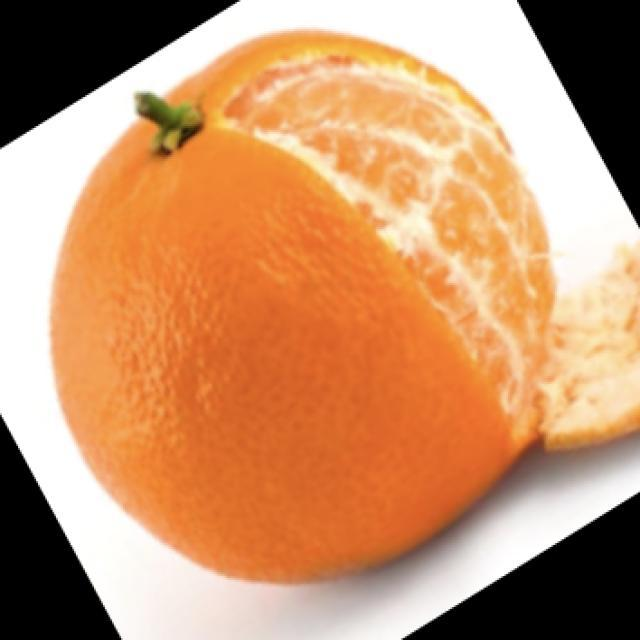matang: (51, 30, 520, 581), (225, 56, 554, 441)
